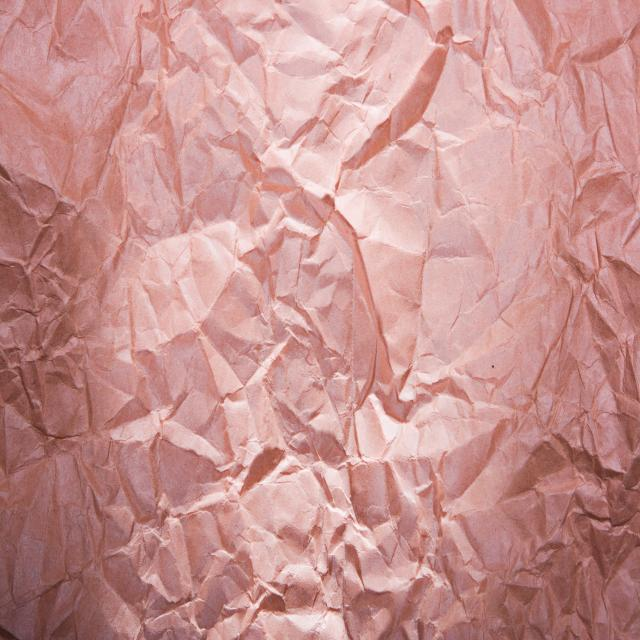cardboard: (130, 87, 536, 534)
